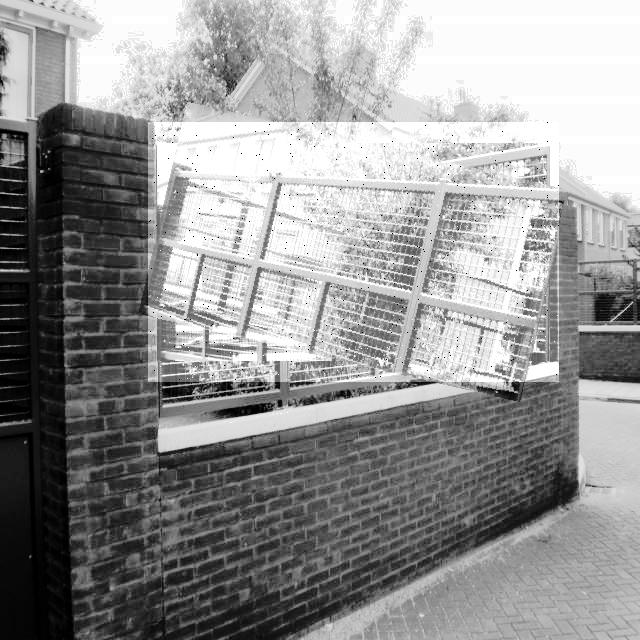fences: (148, 122, 559, 382)
